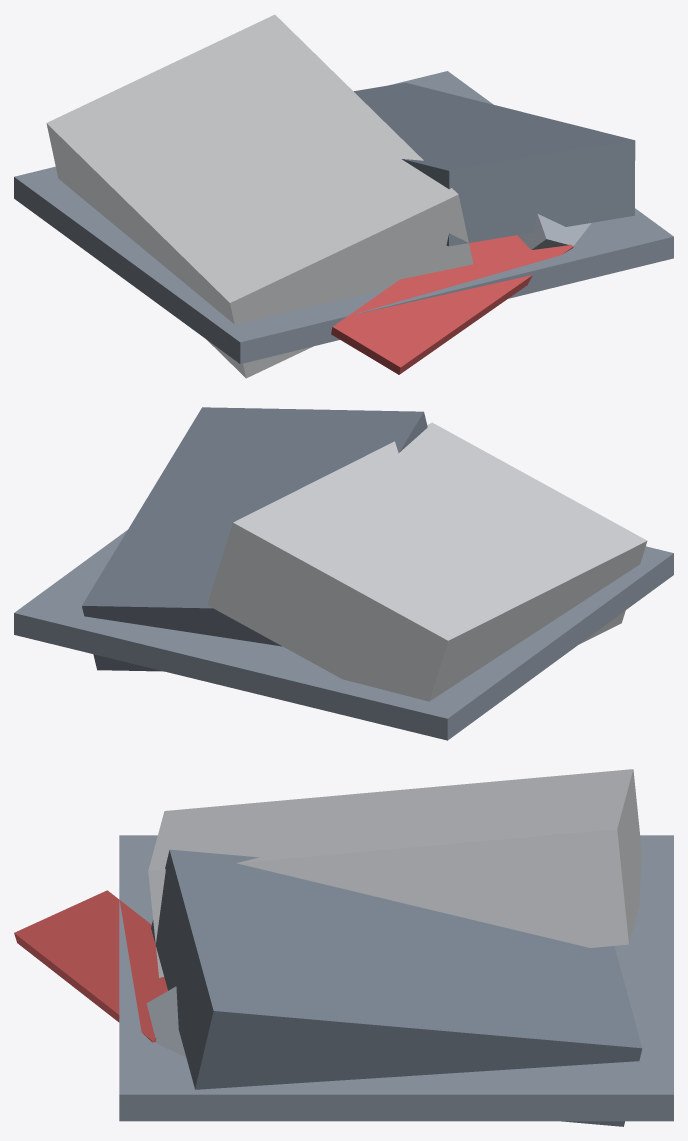
The model's file is commercial-shop-wreck.glb.
3 renders of one model, top to bottom at view 1: azimuth 30°, elevation 25°; view 2: azimuth 150°, elevation 25°; view 3: azimuth 270°, elevation 25°, orthographic. The views are drawn at different scales.
Parts seen in each view (by area): view 1: Root; view 2: Root; view 3: Root.
Boxes of the visible parts, x1,y1,x2,y2 form: Root: (14,14,673,378); Root: (14,407,673,740); Root: (14,769,673,1126).
Bounding box in the file's own units: 10.4 × 4.16 × 11.19.
